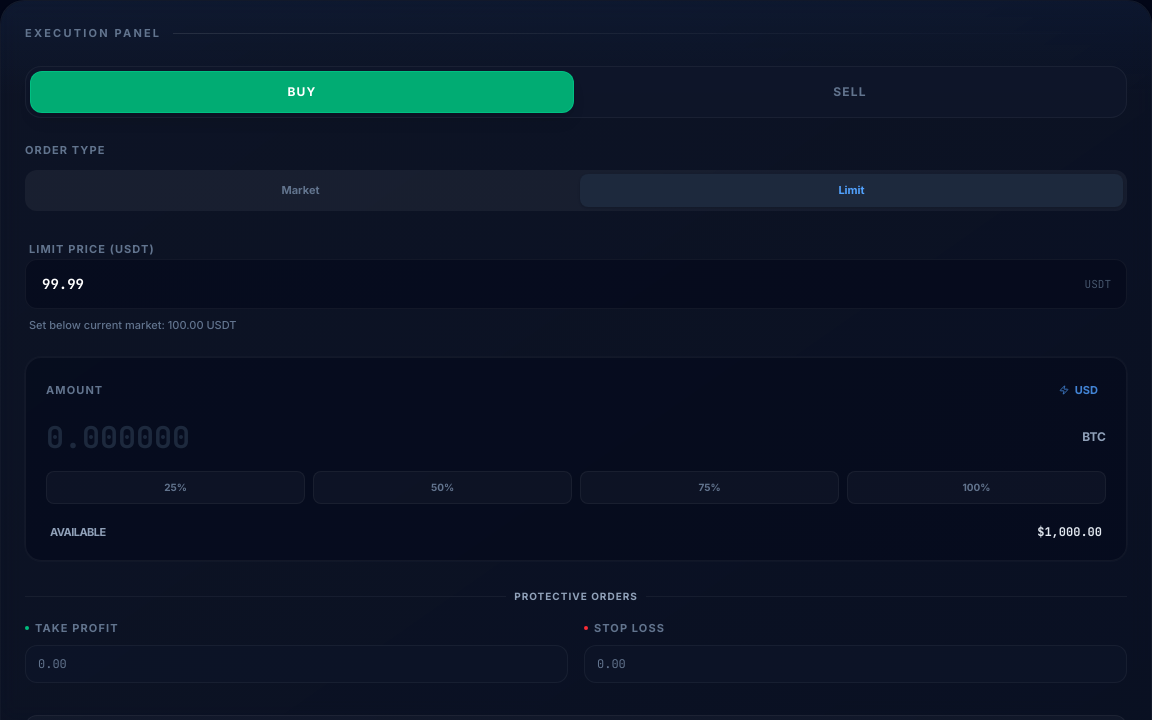
Test: TradePanel quick presets › rebuilds a valid SELL limit price above the current market when toggling from BUY
Click the button with aria-label "Select Sell order type" at (850, 92), box [578,70,1122,112]
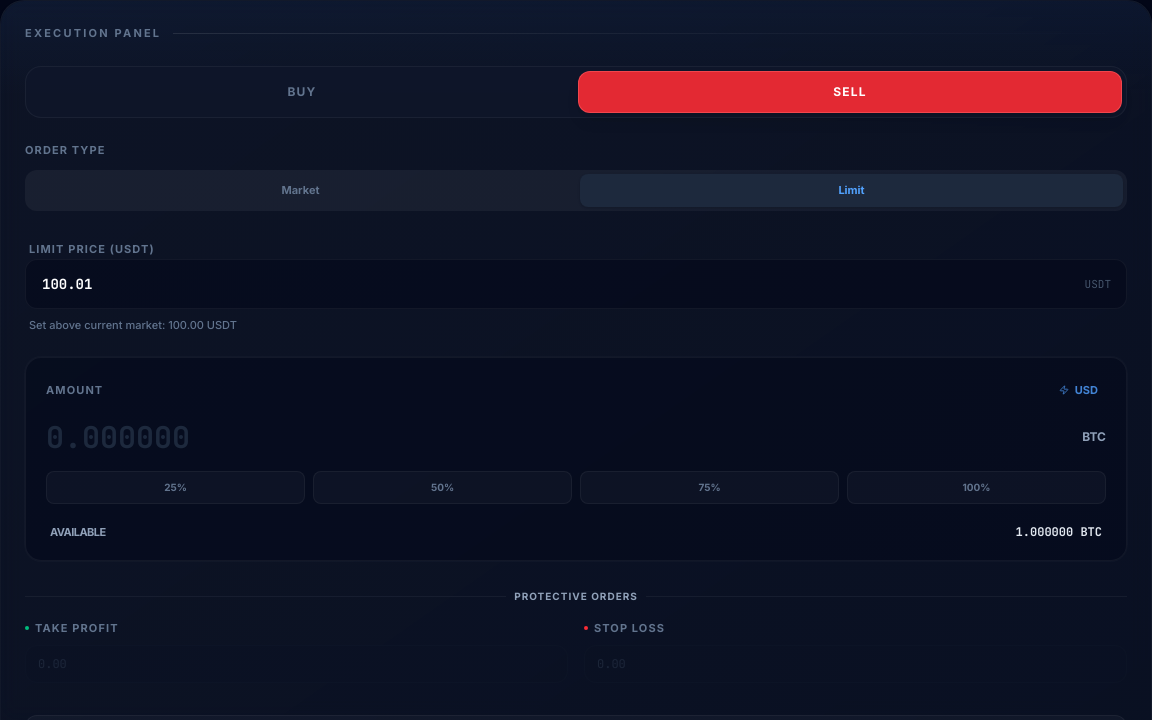
Now the number field named "Limit price input" holds "100.01", box [25,258,1127,308]
Now the text "Set above current market: 100.00 USDT" is shown, box [29,318,237,332]
